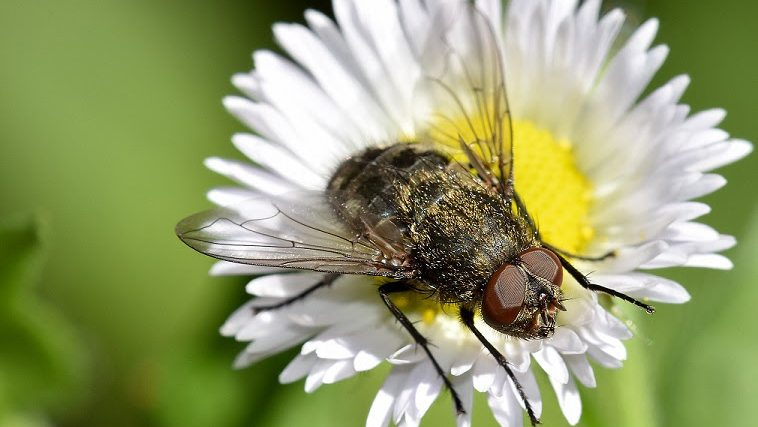green bottles flies: (163, 9, 646, 421)
